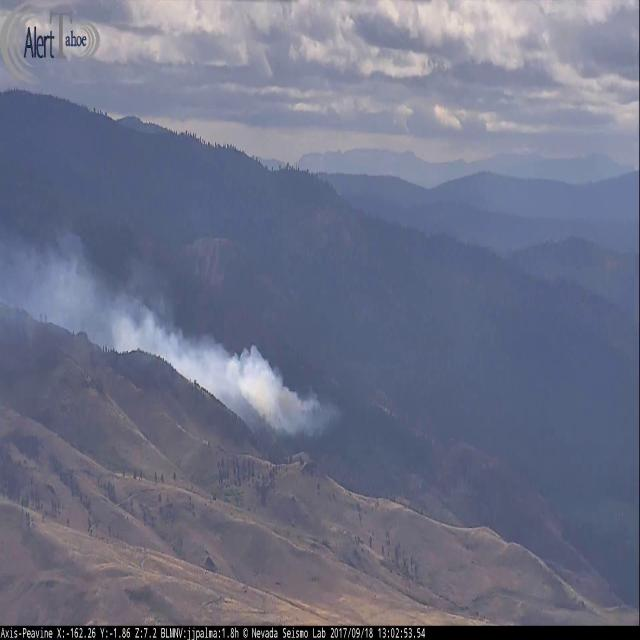smoke: (0, 197, 346, 461)
